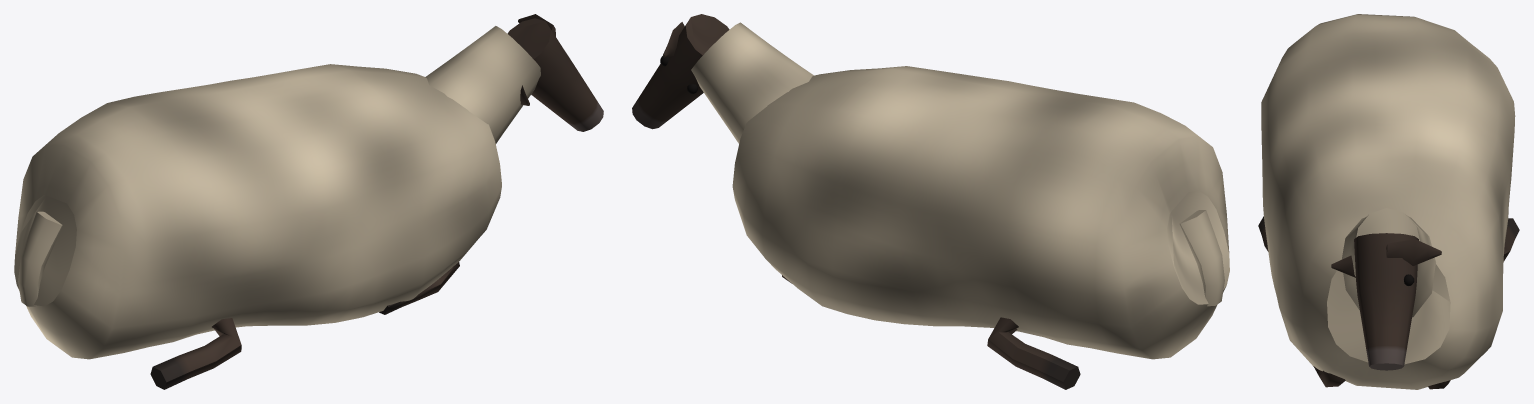
The model's file is tpl_life_sheep_1175_sheep_landrace_lie.glb.
3 renders of one model, left to right at view 1: azimuth 30°, elevation 25°; view 2: azimuth 150°, elevation 25°; view 3: azimuth 270°, elevation 25°, orthographic. The views are drawn at different scales.
Parts seen in each view (by area): view 1: tpl_life_sheep_1175_sheep_landrace_lie; view 2: tpl_life_sheep_1175_sheep_landrace_lie; view 3: tpl_life_sheep_1175_sheep_landrace_lie.
Boxes of the visible parts, box(x1,y1,x2,y2) form: tpl_life_sheep_1175_sheep_landrace_lie: box(14, 14, 603, 389); tpl_life_sheep_1175_sheep_landrace_lie: box(632, 14, 1229, 389); tpl_life_sheep_1175_sheep_landrace_lie: box(1258, 14, 1519, 389).
Bounding box in the file's own units: 1.38 × 0.5225 × 0.5232.
2 materials, 1 textured.
